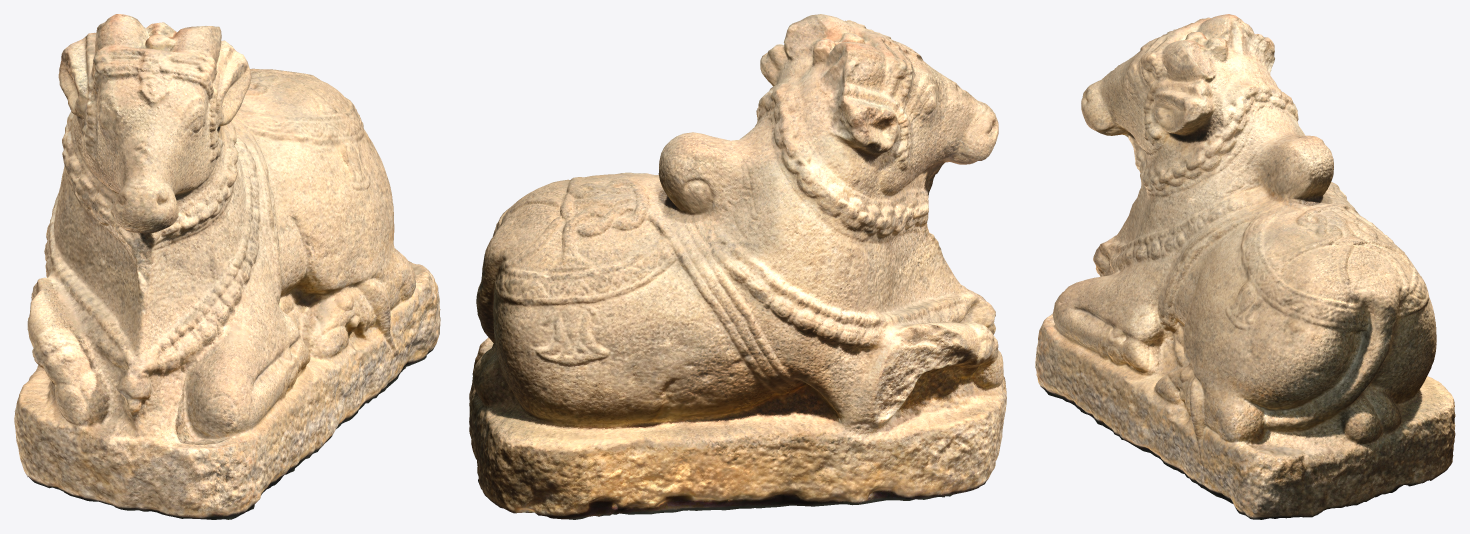
Rendered from nandi.glb.
3 renders of one model, left to right at view 1: azimuth 30°, elevation 25°; view 2: azimuth 150°, elevation 25°; view 3: azimuth 270°, elevation 25°, orthographic. The views are drawn at different scales.
Visible parts, largest first — view 1: Object_2; view 2: Object_2; view 3: Object_2.
Part boxes in pixels (x1=…): Object_2: x1=14, y1=14, x2=440, y2=519; Object_2: x1=469, y1=14, x2=1006, y2=519; Object_2: x1=1035, y1=14, x2=1455, y2=519.
Bounding box in the file's own units: 0.9962 × 0.8819 × 0.9135.
Materials: 1 (1 with a texture image).
